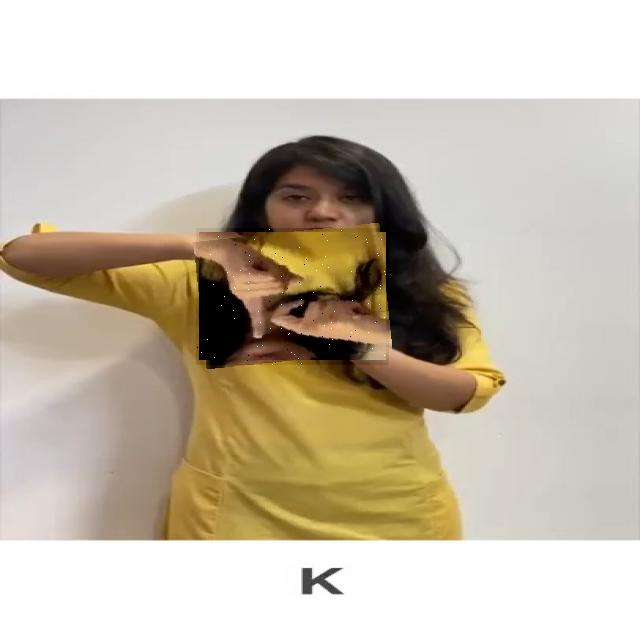K: (196, 228, 389, 365)
